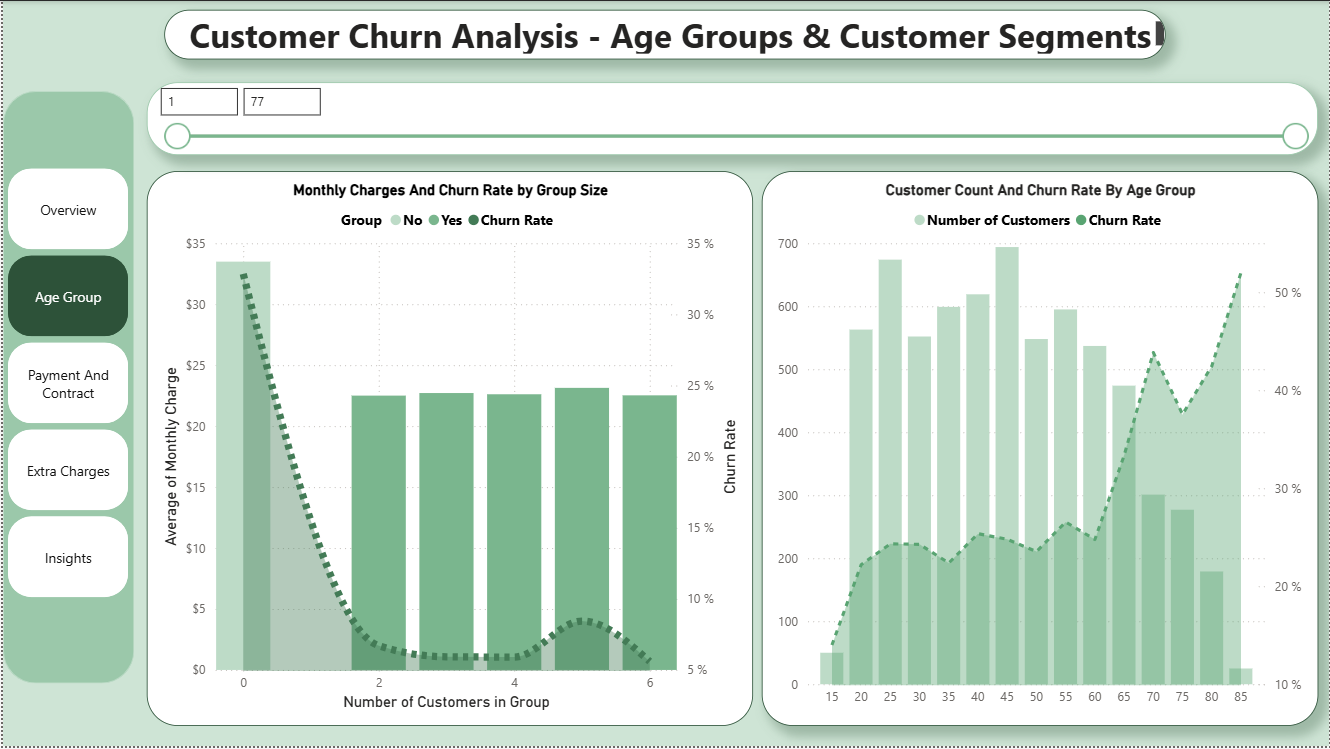

The page's visual inventory and layout, read from the dashboard file:
{"tool":"powerbi","page":{"name":"Age Group","canvas":[1280,720],"ordinal":1},"visuals":[{"type":"lineStackedColumnComboChart","title":"Customer Count And Churn Rate By Age Group","fields":{"Category":["Databel - Data.Age (bins)"],"Y":["Databel - Data.Number of costumers"],"Y2":["Databel - Data.Churn Rate"]},"box":[732.8,164.2,537.2,536],"z":0},{"type":"lineStackedColumnComboChart","title":"Monthly Charges And Churn Rate by Group Size ","fields":{"Category":["Databel - Data.Number of Customers in Group"],"Y":["Avg(Databel - Data.Monthly Charge)"],"Series":["Databel - Data.Group"],"Y2":["Databel - Data.Churn Rate"]},"box":[138.8,164.2,585.5,536],"z":1000},{"type":"slicer","fields":{"Values":["Databel - Data.Account Length (in months)"]},"box":[138.8,78.5,1131.2,70],"z":2000},{"type":"textbox","box":[155.7,8.5,967,48.3],"z":3000},{"type":"shape","box":[0,86.9,126.8,572.2],"z":4000},{"type":"pageNavigator","box":[0,156.9,126.8,426.2],"z":5000},{"type":"actionButton","box":[0,246.3,126.8,79.7],"z":6000},{"type":"actionButton","box":[0,330.8,126.8,79.7],"z":7000},{"type":"actionButton","box":[0,415.3,126.8,79.7],"z":8000},{"type":"actionButton","box":[0,503.4,126.8,79.7],"z":9000},{"type":"actionButton","box":[0,164.2,126.8,79.7],"z":10000}]}

Visuals, with their boxes in screenshot pixels (x1, y1, x2, y2), scaled from the page's 1280x720 canvas onto the 1330x749 screenshot:
"Customer Count And Churn Rate By Age Group" lineStackedColumnComboChart: bbox(761, 171, 1320, 728)
"Monthly Charges And Churn Rate by Group Size " lineStackedColumnComboChart: bbox(144, 171, 753, 728)
slicer - Databel - Data.Account Length (in months): bbox(144, 82, 1320, 154)
textbox: bbox(162, 9, 1167, 59)
shape: bbox(0, 90, 132, 686)
pageNavigator: bbox(0, 163, 132, 607)
actionButton: bbox(0, 256, 132, 339)
actionButton: bbox(0, 344, 132, 427)
actionButton: bbox(0, 432, 132, 515)
actionButton: bbox(0, 524, 132, 607)
actionButton: bbox(0, 171, 132, 254)
